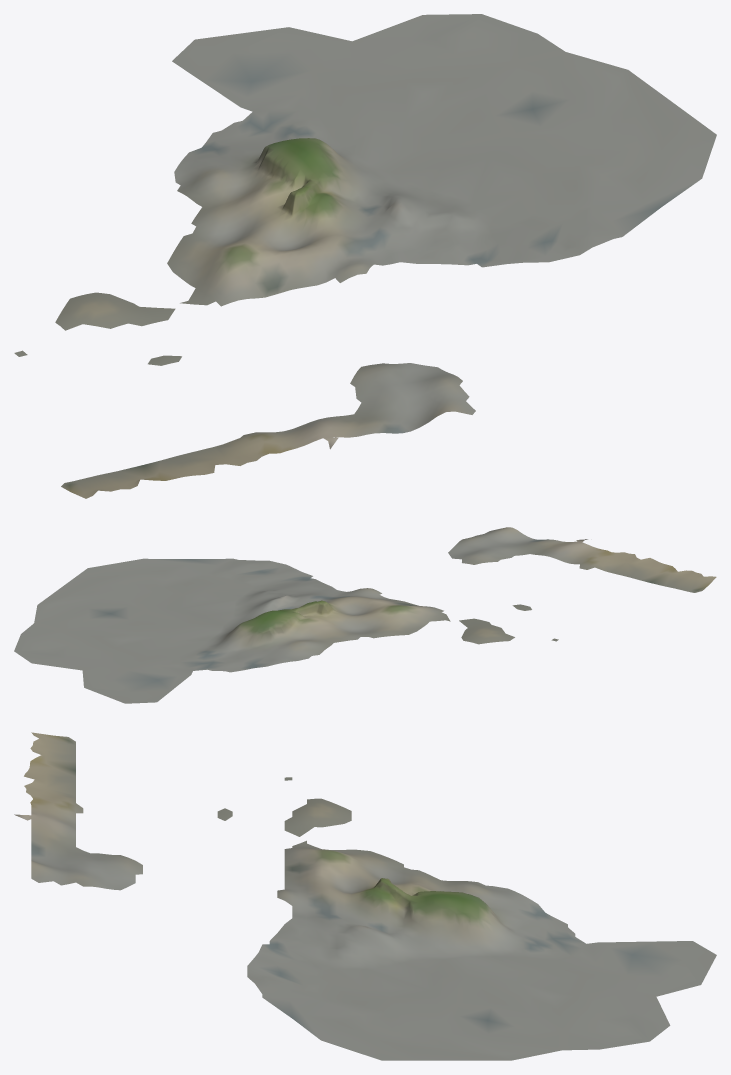
File: coast_tile_x2z1_lod1.glb
3 views of the same model, one above another, from view 1: azimuth 30°, elevation 25°; view 2: azimuth 150°, elevation 25°; view 3: azimuth 270°, elevation 25° (orthographic). The views are drawn at different scales.
Parts seen in each view (by area): view 1: coast_tile_x2z1_lod1; view 2: coast_tile_x2z1_lod1; view 3: coast_tile_x2z1_lod1.
Boxes of the visible parts, x1,y1,x2,y2 form: coast_tile_x2z1_lod1: [14, 14, 716, 498]; coast_tile_x2z1_lod1: [14, 527, 716, 703]; coast_tile_x2z1_lod1: [14, 732, 716, 1060].
Size of the model in its own units: 594 by 28.55 by 566.
